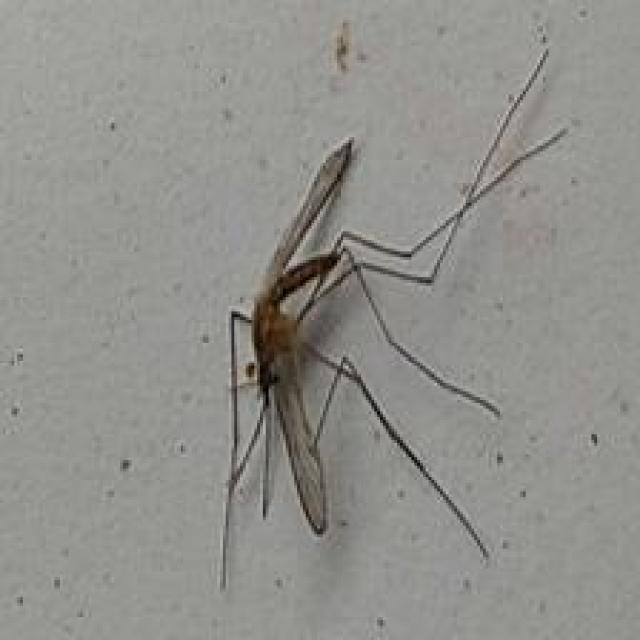Culex: (216, 34, 567, 592)
